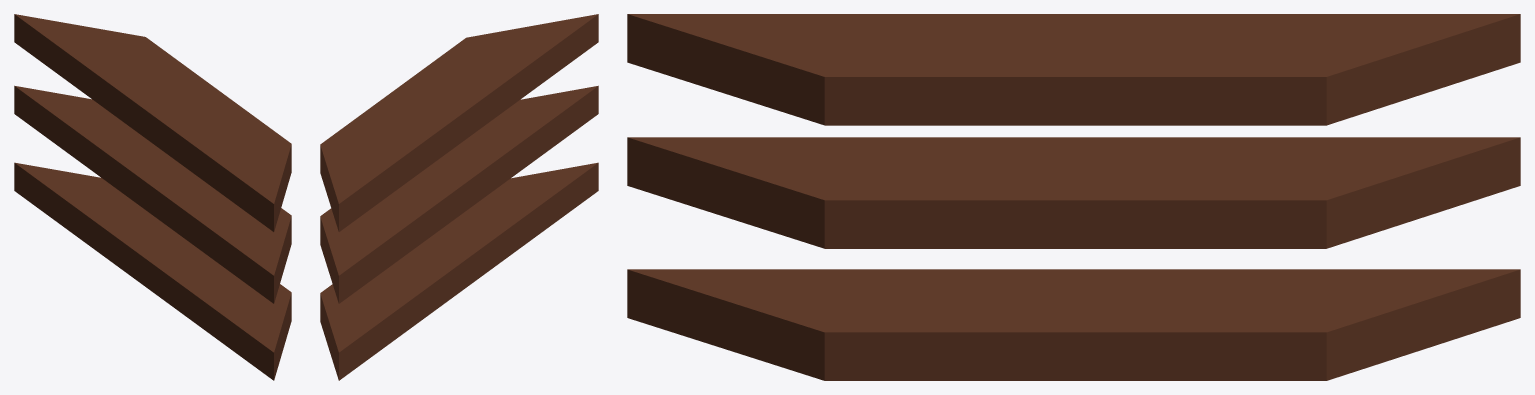
Rendered from wall shelf piece 1.fbx.
The picture shows the model from 3 angles, left to right: view 1: azimuth 30°, elevation 25°; view 2: azimuth 150°, elevation 25°; view 3: azimuth 270°, elevation 25°; orthographic projection. The views are drawn at different scales.
Visible parts, largest first — view 1: polySurface23; view 2: polySurface23; view 3: polySurface23.
Boxes of the visible parts, box(x1,y1,x2,y2) form: polySurface23: box(14, 14, 291, 380); polySurface23: box(320, 14, 598, 380); polySurface23: box(627, 14, 1520, 380).
Size of the model in its own units: 8.88 by 19.98 by 53.23.
